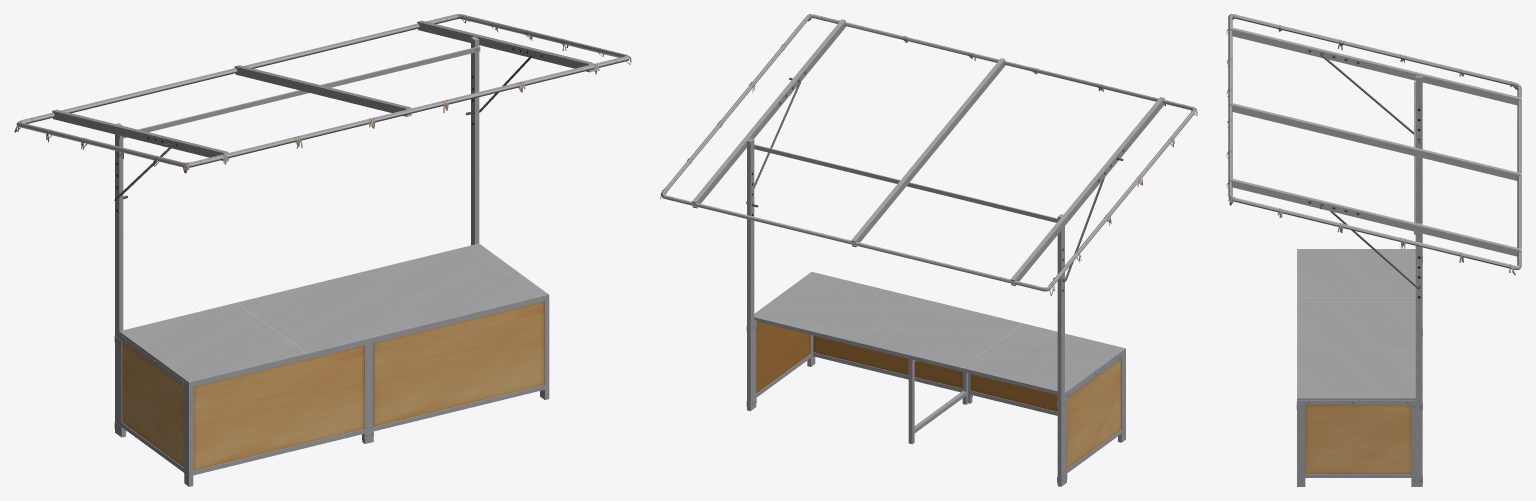
File: jsf_2P_s03_c05_t01.fbx
The picture shows the model from 3 angles, left to right: view 1: azimuth 30°, elevation 25°; view 2: azimuth 150°, elevation 25°; view 3: azimuth 270°, elevation 25°; orthographic projection. The views are drawn at different scales.
Visible parts, largest first — view 1: Base_s03_c05, Table_2P_s03_t01, Pillar2_s03, Rope_2P_s03; view 2: Table_2P_s03_t01, Pillar2_s03, Base_s03_c05, Support; view 3: Table_2P_s03_t01, Pillar2_s03, Base_s03_c05, Rope_2P_s03.
Part boxes in pixels (<box>): Base_s03_c05: <box>114,294,549,486</box>; Table_2P_s03_t01: <box>119,243,547,385</box>; Pillar2_s03: <box>16,14,629,435</box>; Rope_2P_s03: <box>14,14,631,173</box>; Table_2P_s03_t01: <box>754,272,1125,397</box>; Pillar2_s03: <box>660,14,1196,486</box>; Base_s03_c05: <box>746,271,1125,483</box>; Support: <box>908,359,968,444</box>; Table_2P_s03_t01: <box>1298,249,1415,404</box>; Pillar2_s03: <box>1228,14,1521,486</box>; Base_s03_c05: <box>1296,249,1422,486</box>; Rope_2P_s03: <box>1226,14,1517,275</box>.
Bounding box in the file's own units: 316 × 244 × 211.
